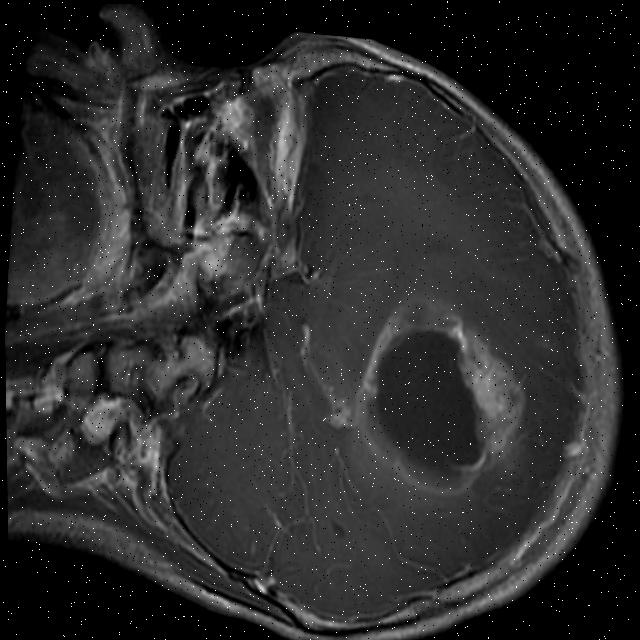Glioma: (342, 293, 534, 507)
